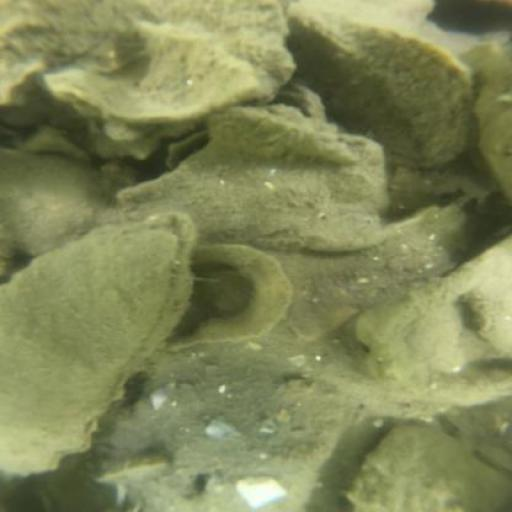Oyster-Closed: (110, 110, 388, 251), (97, 375, 362, 512), (288, 4, 470, 170), (349, 425, 511, 512), (203, 107, 360, 171), (5, 151, 95, 254), (477, 55, 512, 195), (467, 259, 509, 360)
Oyster-Open: (10, 218, 198, 469)
